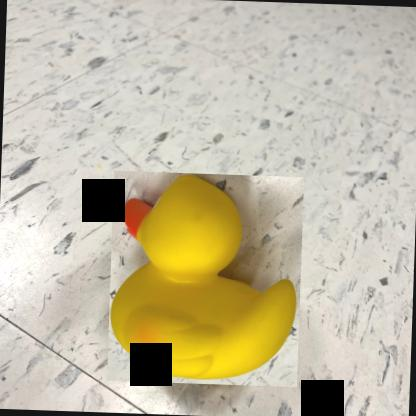duck: (107, 171, 304, 387)
